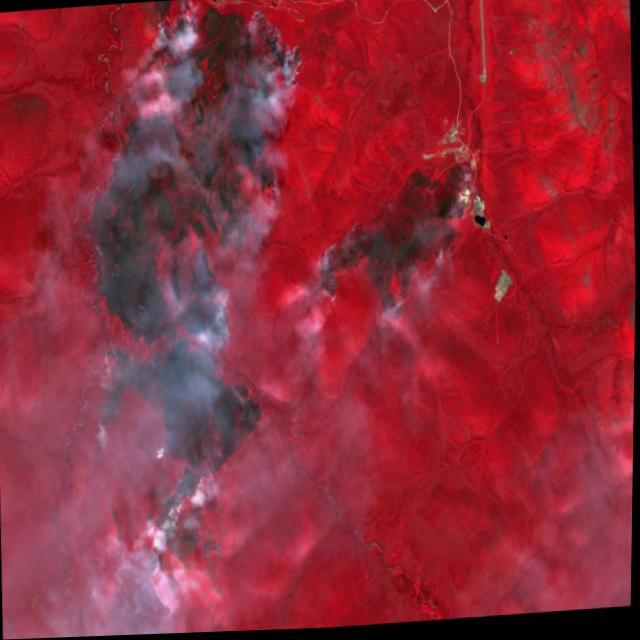fire: (43, 0, 320, 527), (301, 134, 485, 350)
